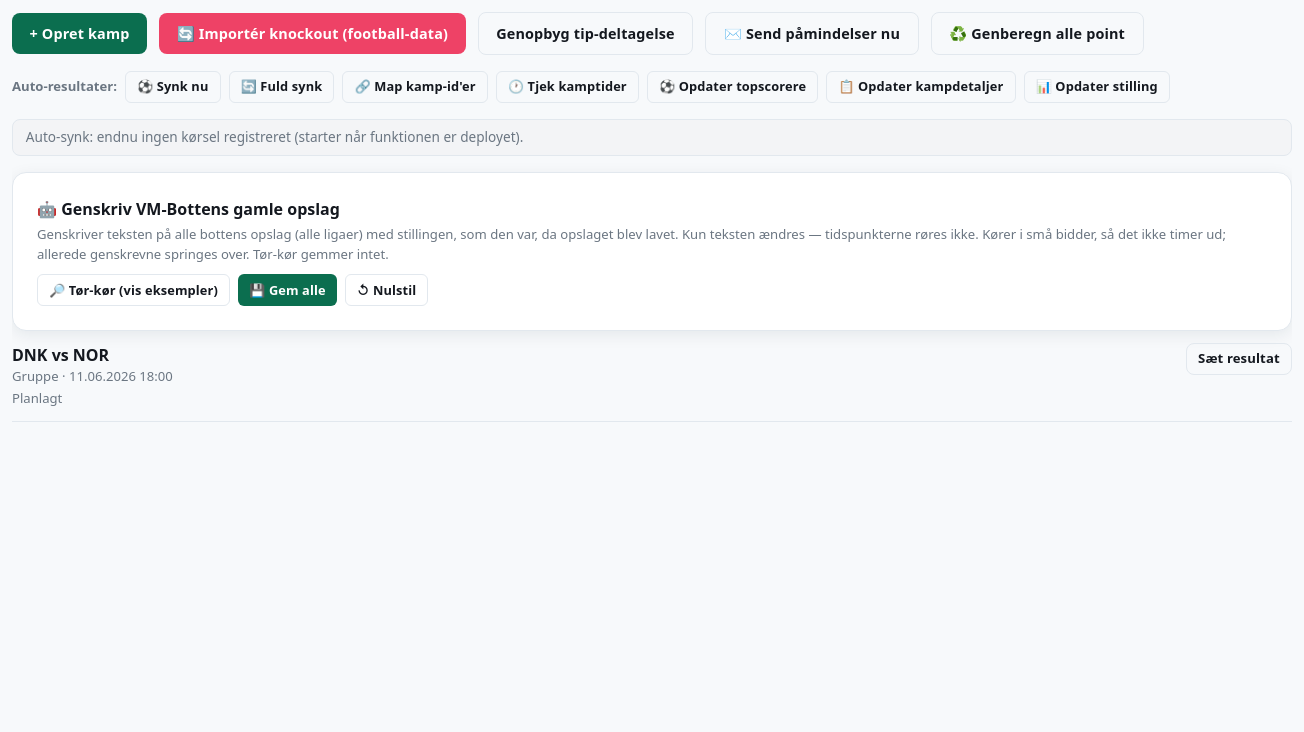
Test case: MatchesTab › lukker resultat-formular ved klik på Luk
The width and height of the screenshot is (1304, 732).
Click the button "Sæt resultat".
click(1239, 359)  # box [1186, 343, 1292, 375]
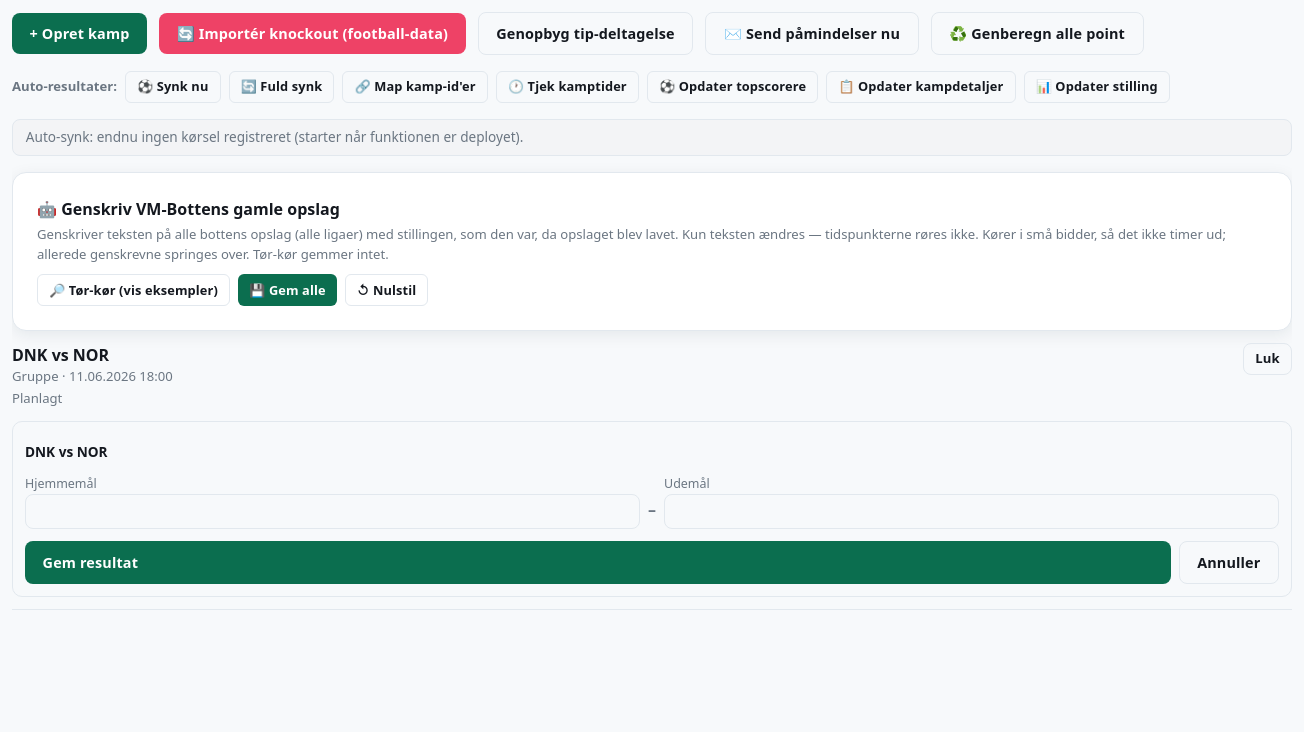
Click the button "Luk".
click(1268, 359)  # box [1243, 343, 1292, 375]
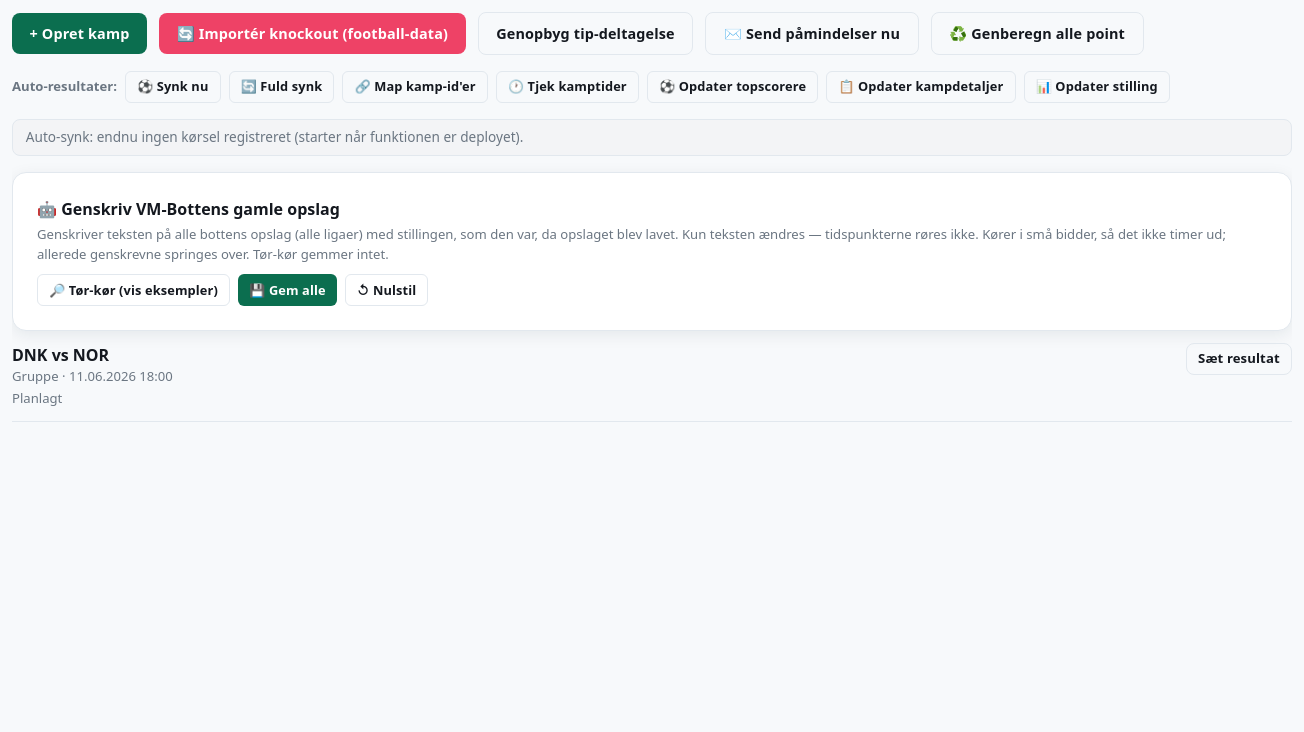
expect the button "Gem resultat" is gone: met
